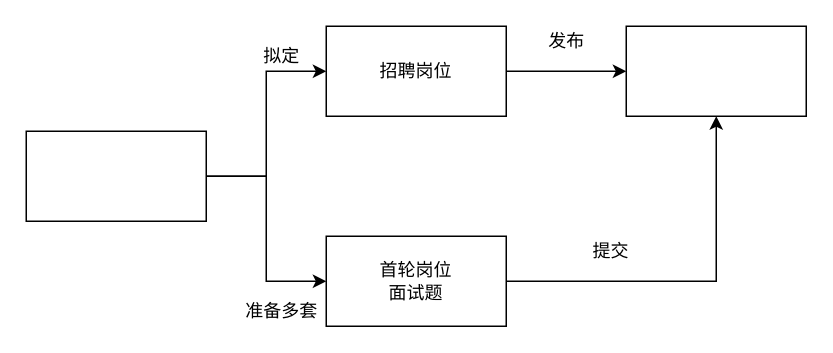
This 833x353 diagram has some shape labels left out. Each missing label, with the box of its shape:
企业人事专员: (25, 130, 206, 221)
招聘平台: (625, 25, 806, 116)
